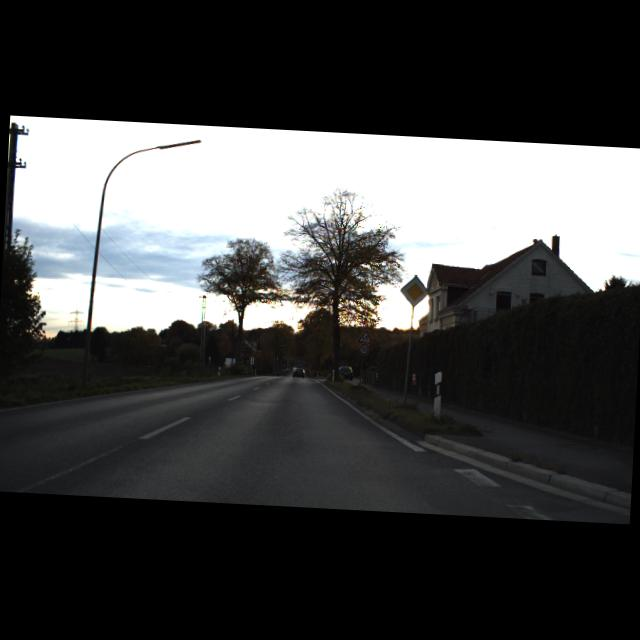danger: (355, 328, 373, 344)
other: (399, 275, 430, 307)
prohibitory: (357, 344, 370, 357)
